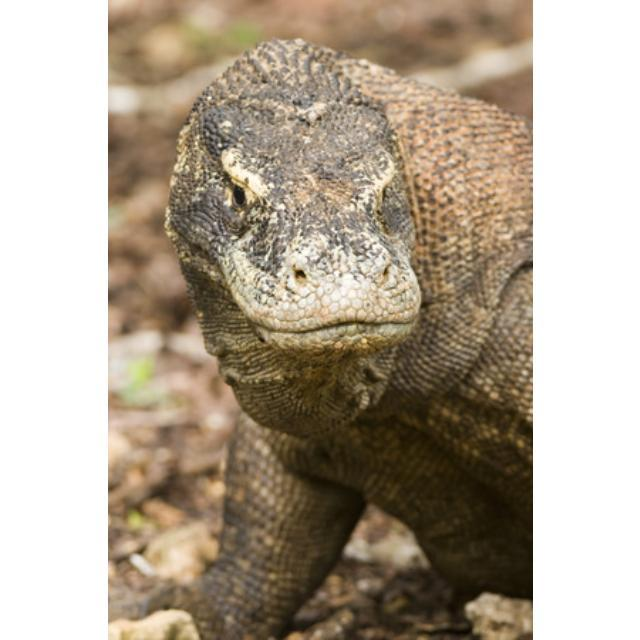KomodoDragon: (113, 35, 528, 636)
